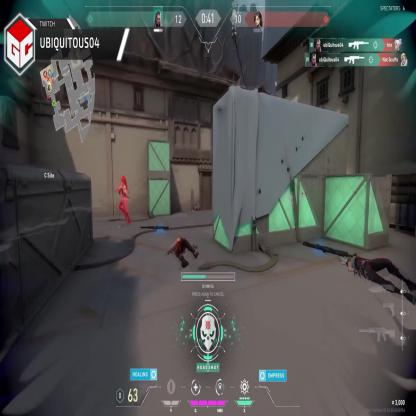enemy: (118, 176, 130, 224)
enemy_head: (121, 178, 124, 186)
